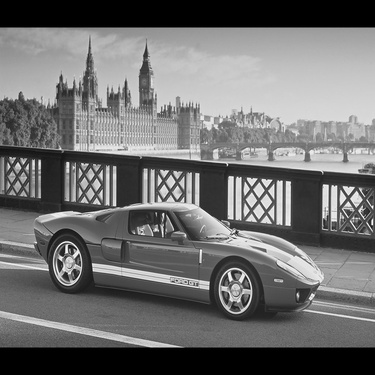car: (23, 169, 322, 318)
